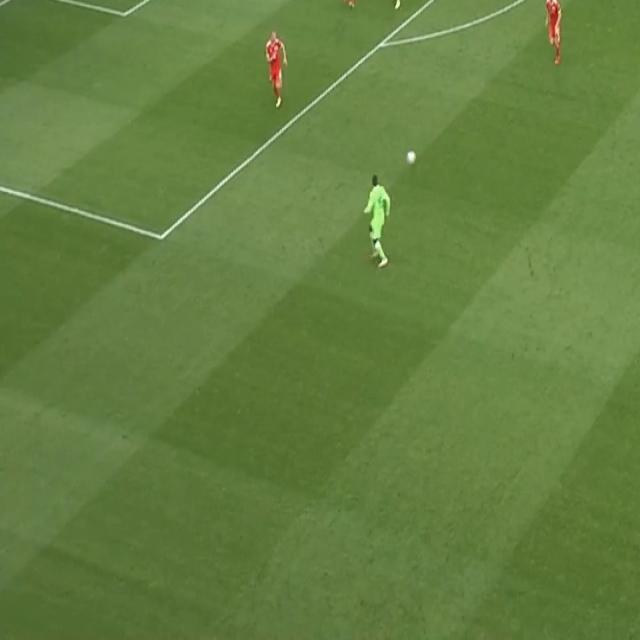ball: (406, 148, 416, 167)
